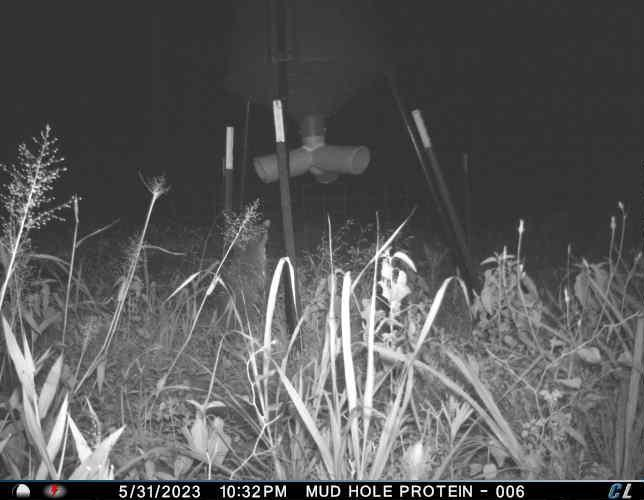Raccoon: (225, 215, 274, 281)
